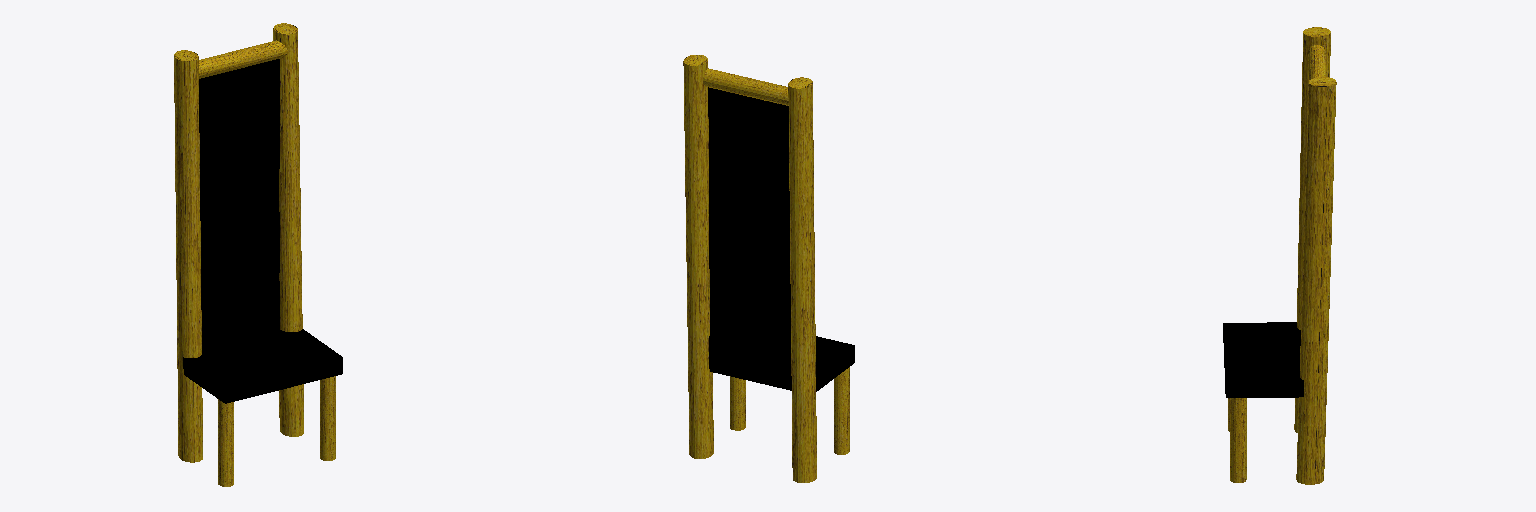
3 views of the same model, side by side, from view 1: azimuth 30°, elevation 25°; view 2: azimuth 150°, elevation 25°; view 3: azimuth 270°, elevation 25° (orthographic).
Visible parts, largest first — view 1: group6_pasted__pCube1; view 2: group6_pasted__pCube1; view 3: group6_pasted__pCube1.
Boxes of the visible parts, x1=… form: group6_pasted__pCube1: x1=174, y1=23, x2=342, y2=486; group6_pasted__pCube1: x1=683, y1=55, x2=854, y2=482; group6_pasted__pCube1: x1=1223, y1=27, x2=1336, y2=484.
Bounding box in the file's own units: 1.93 × 6 × 1.55.
2 materials, 1 textured.